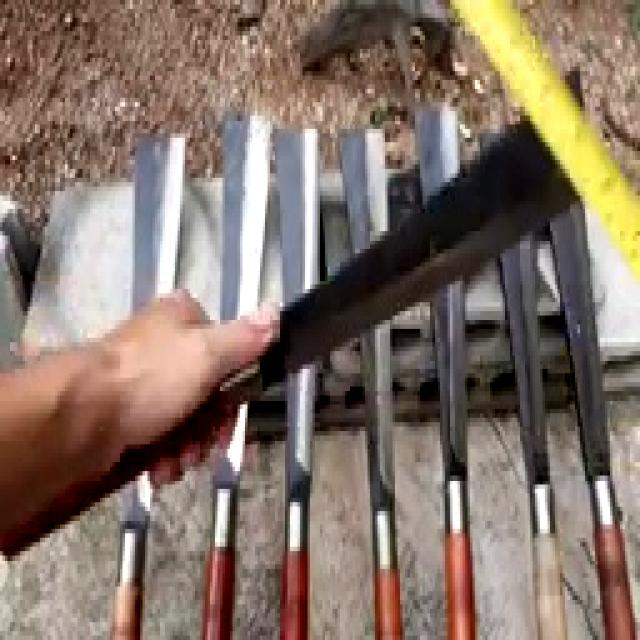eto: (0, 59, 594, 565)
